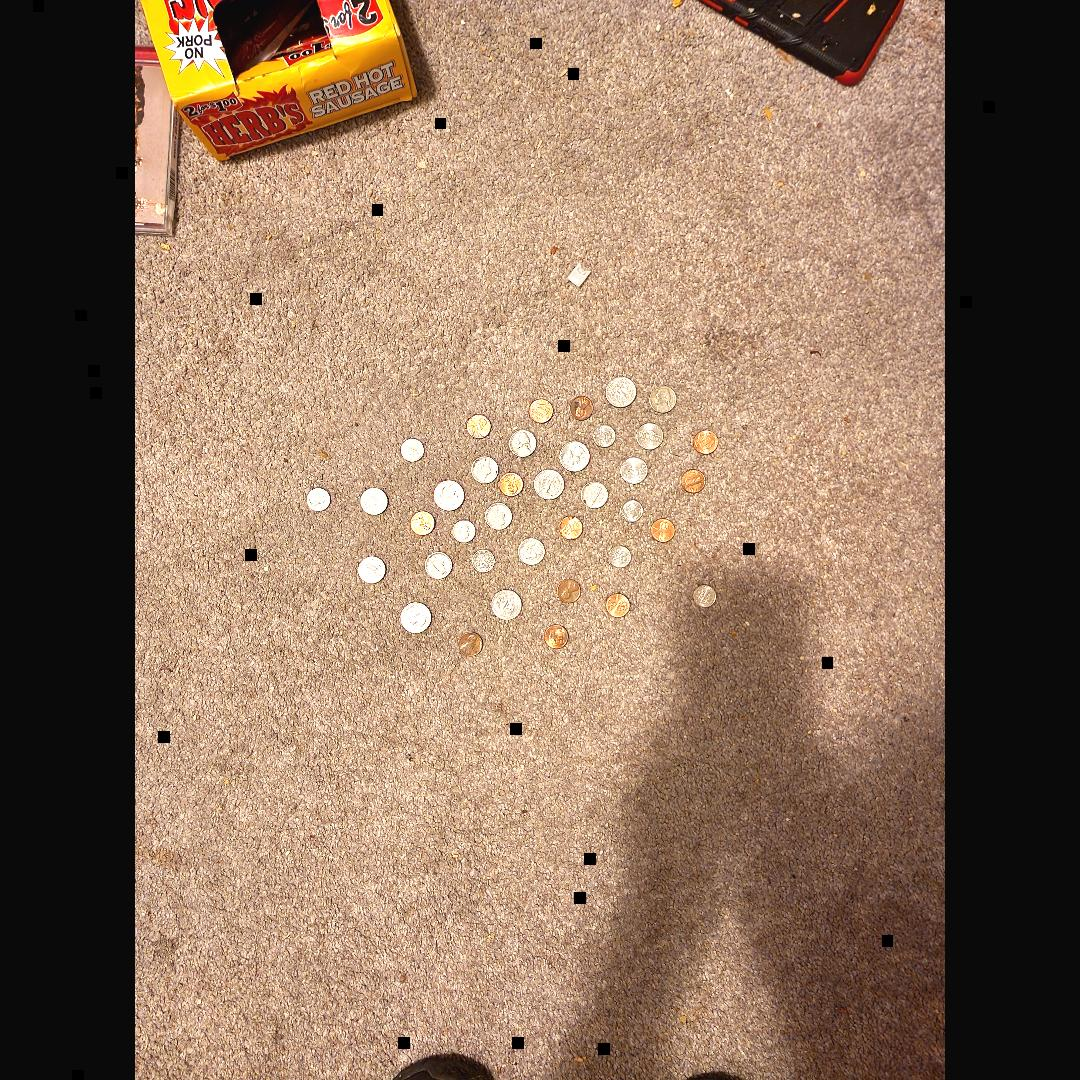Dime: (400, 438, 424, 462), (472, 549, 494, 573), (694, 586, 716, 609), (308, 488, 330, 510), (453, 520, 475, 542), (594, 426, 616, 448), (610, 546, 630, 568), (625, 500, 645, 522)
Nickel: (360, 487, 388, 515), (358, 557, 386, 584), (620, 457, 647, 485), (648, 386, 675, 414), (426, 552, 453, 579), (486, 502, 512, 530), (510, 430, 536, 458), (472, 456, 498, 484), (518, 538, 544, 565), (582, 481, 608, 508), (637, 423, 663, 449)
Penny: (457, 631, 483, 657), (528, 398, 554, 424), (544, 624, 570, 650), (410, 510, 434, 536), (680, 468, 704, 494), (466, 415, 492, 439), (694, 430, 718, 454), (559, 516, 583, 540), (499, 472, 523, 496), (570, 396, 594, 420), (558, 579, 581, 604), (608, 594, 631, 617), (652, 518, 674, 542)
Quarter: (400, 602, 432, 634), (560, 440, 590, 472), (533, 469, 563, 501), (433, 480, 465, 510), (490, 590, 522, 620), (606, 377, 636, 407)
